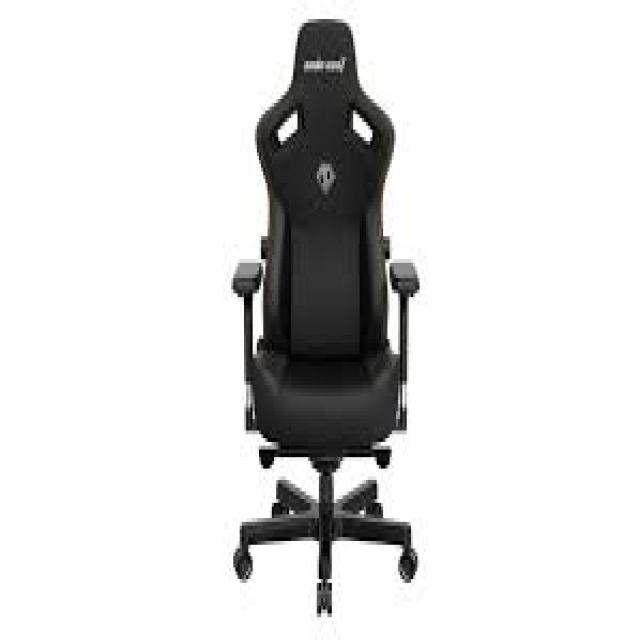chair: (153, 14, 465, 632)
